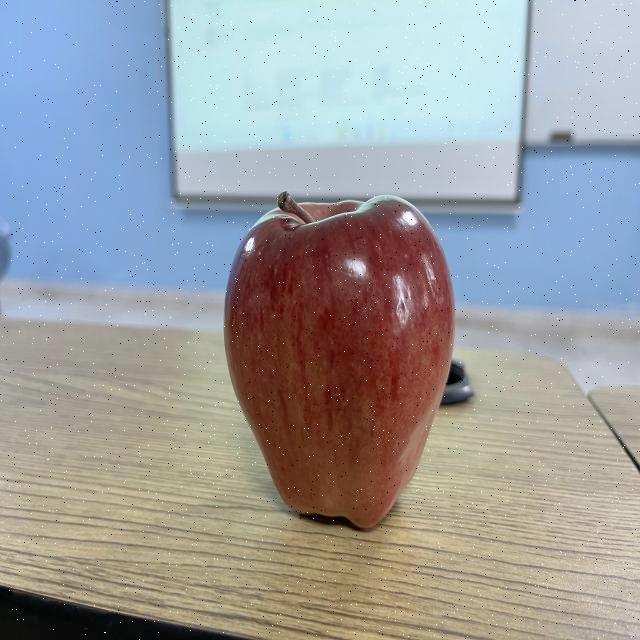Apel Merah: (222, 190, 457, 534)
